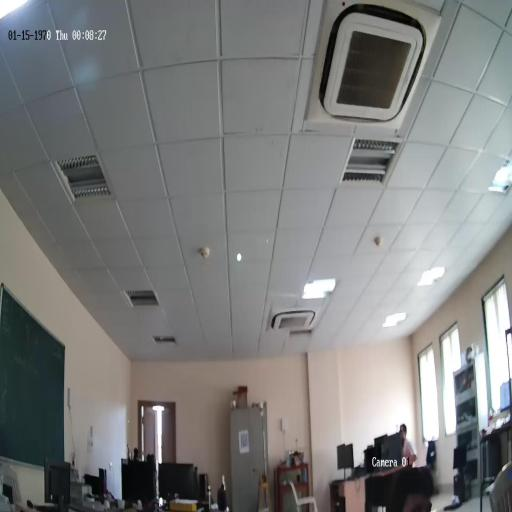laser: (236, 251, 242, 263)
